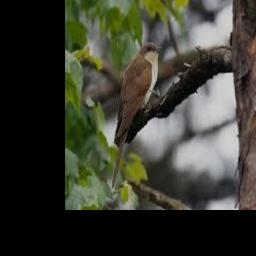Cuckoo: (112, 42, 162, 189)
